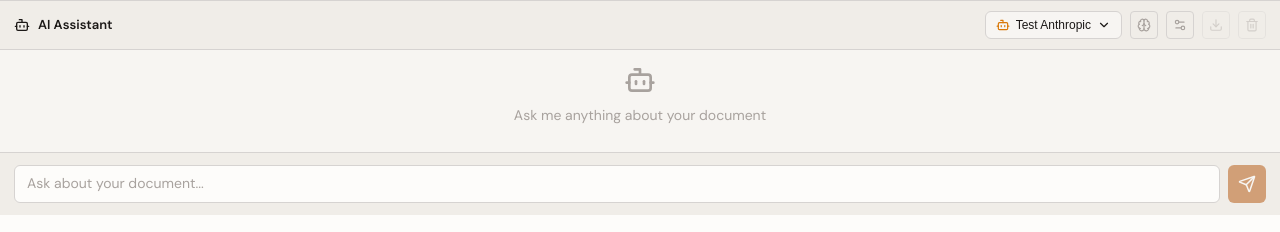
Test: AIChat › Account Selection › shows account dropdown when clicking account selector
Click the button "Test Anthropic". click: {"x": 1053, "y": 25}
box: 985,11 -> 1122,39
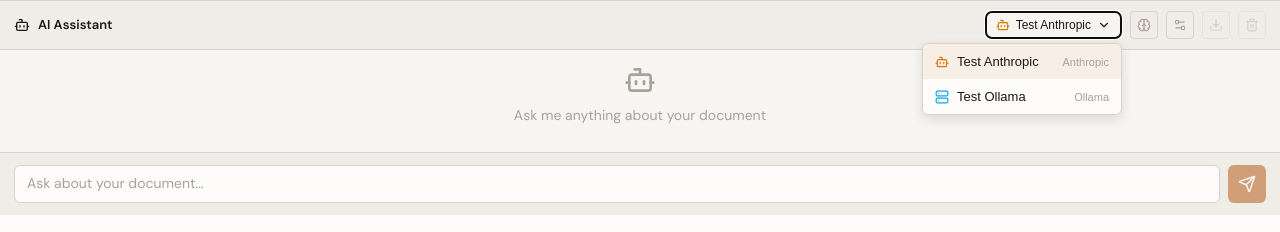
Now the text "Test Ollama" is shown, box 957,89 -> 1026,104
